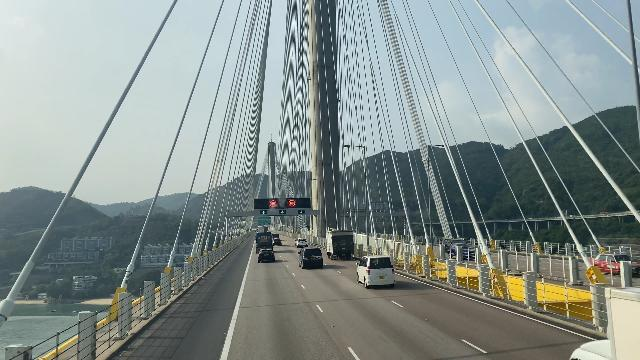car: (588, 252, 640, 279), (257, 248, 277, 263), (295, 237, 310, 248), (273, 237, 281, 246)
truck: (325, 228, 358, 262), (252, 231, 275, 253), (256, 224, 266, 233)
van: (354, 255, 398, 292), (298, 246, 326, 270)
